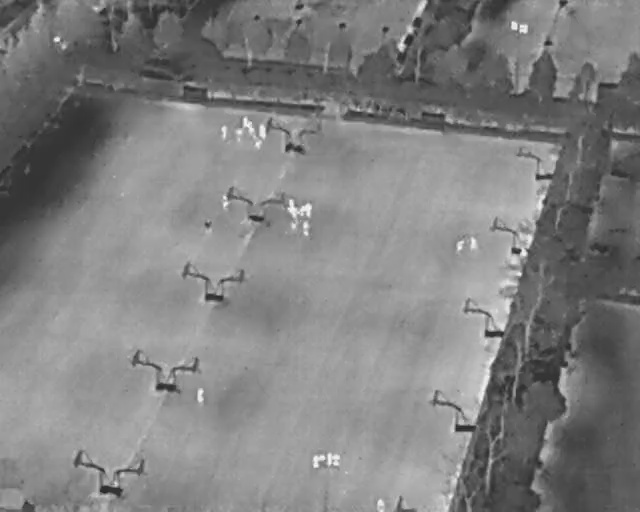Person: (257, 123, 267, 141), (287, 199, 296, 219), (202, 218, 213, 234), (218, 124, 227, 142), (375, 498, 387, 511), (196, 387, 205, 404), (455, 239, 465, 254), (468, 237, 478, 251), (220, 194, 229, 208), (235, 129, 243, 144), (300, 222, 309, 235), (305, 203, 313, 216), (242, 115, 248, 129), (255, 138, 262, 150), (298, 205, 305, 217), (246, 119, 252, 132)
